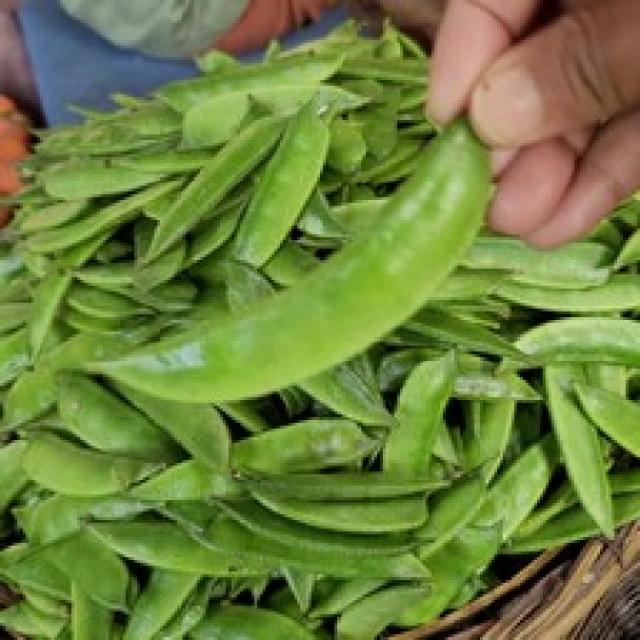Bean: (0, 14, 637, 637), (92, 111, 494, 403)
